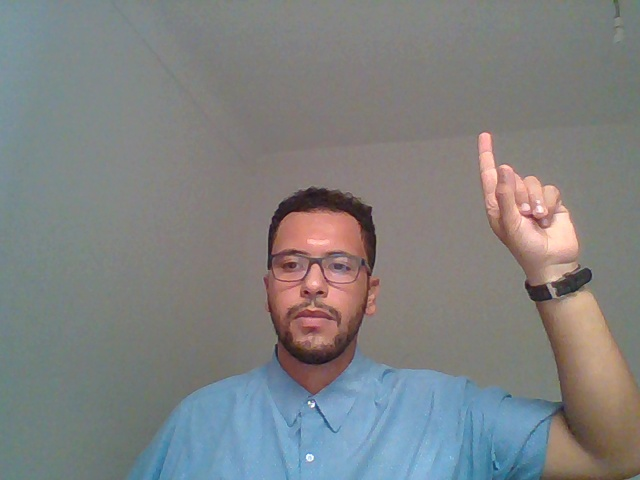handup: (446, 114, 640, 429)
